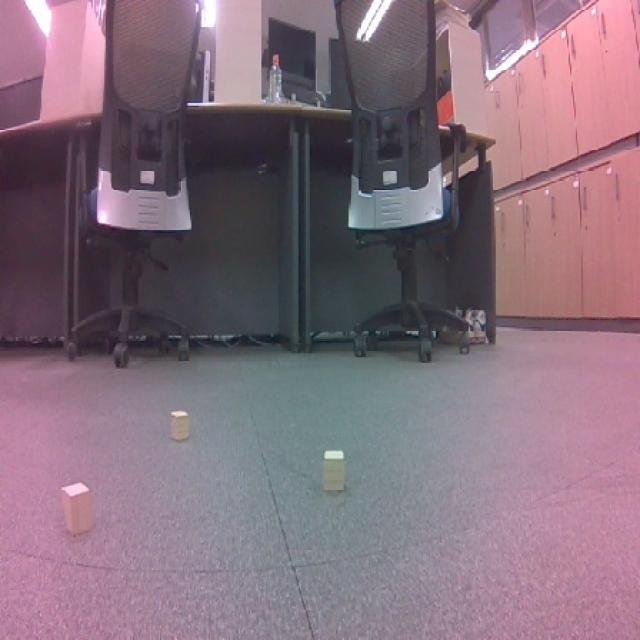obstacle: (57, 479, 101, 539), (317, 441, 353, 500), (162, 398, 200, 452)
